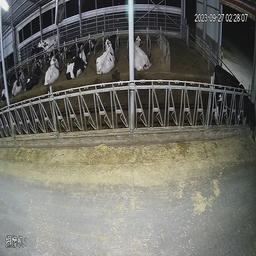cow: (211, 53, 254, 146), (95, 34, 118, 78), (65, 44, 91, 82), (134, 31, 156, 73), (36, 26, 63, 55), (39, 54, 63, 85), (18, 60, 39, 89), (7, 63, 21, 95)
